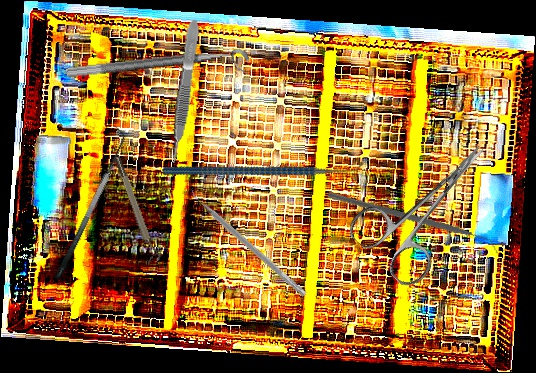Chopper: (161, 96, 371, 237), (326, 152, 499, 295)
Fixation Ring: (66, 47, 251, 93), (112, 153, 163, 265)
Iris Scissors: (343, 117, 517, 294)
Spatula Surgical: (41, 125, 135, 282), (185, 185, 312, 298)
Tissue Forceps: (165, 19, 203, 164)
